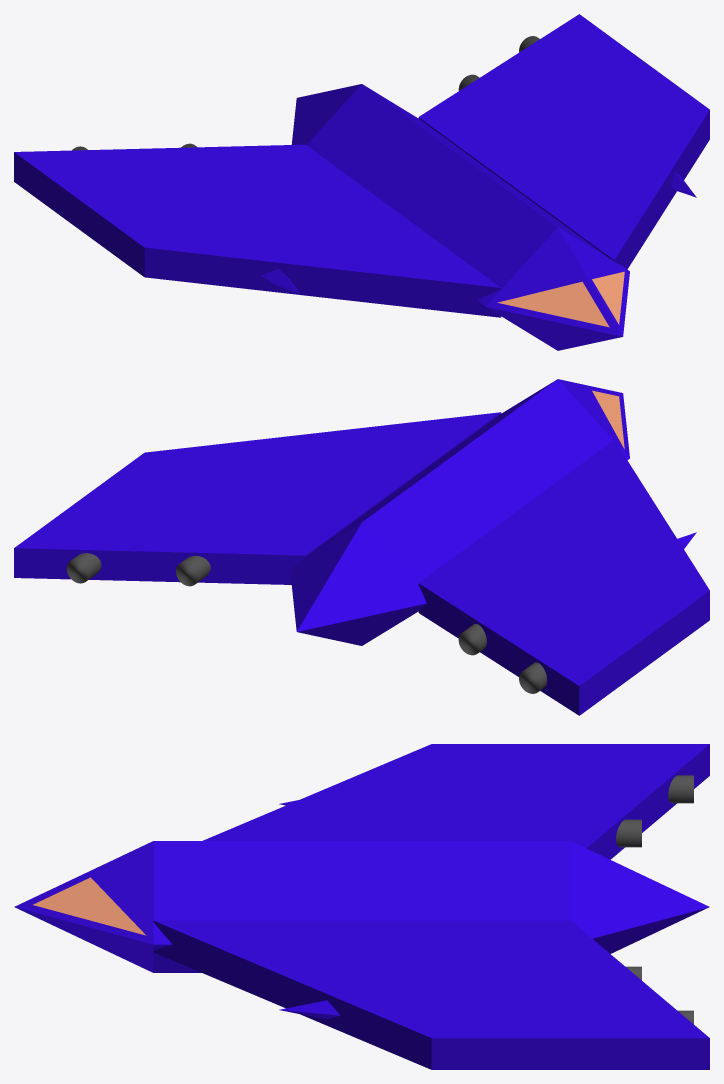
Rendered from Enemy_Ship_Barreler_001.fbx.
3 renders of one model, top to bottom at view 1: azimuth 30°, elevation 25°; view 2: azimuth 150°, elevation 25°; view 3: azimuth 270°, elevation 25°, orthographic. The views are drawn at different scales.
Visible parts, largest first — view 1: wings, body, guns; view 2: wings, body, thrust_001, thrust; view 3: wings, body, thrust, thrust_001, guns.
Boxes of the visible parts, x1,y1,x2,y2 form: wings: (14, 14, 709, 317); body: (291, 84, 629, 350); guns: (261, 172, 696, 293); wings: (14, 412, 709, 715); body: (290, 379, 629, 645); thrust_001: (66, 553, 547, 693); thrust: (176, 556, 486, 655); wings: (153, 744, 709, 1069); body: (14, 841, 709, 972); thrust: (616, 819, 641, 980); thrust_001: (668, 775, 693, 1024); guns: (279, 800, 340, 1019).
Size of the model in its own units: 200 by 41.81 by 200.
